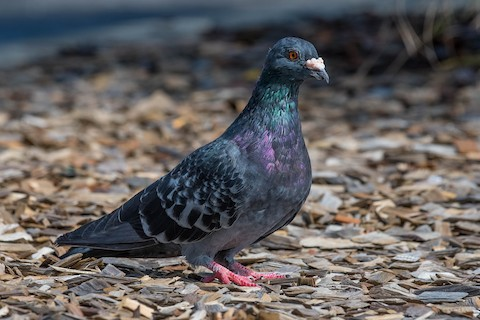pigeon: (49, 35, 335, 288)
